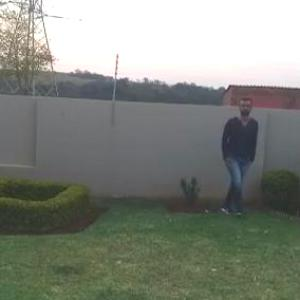follow: (211, 95, 263, 211)
